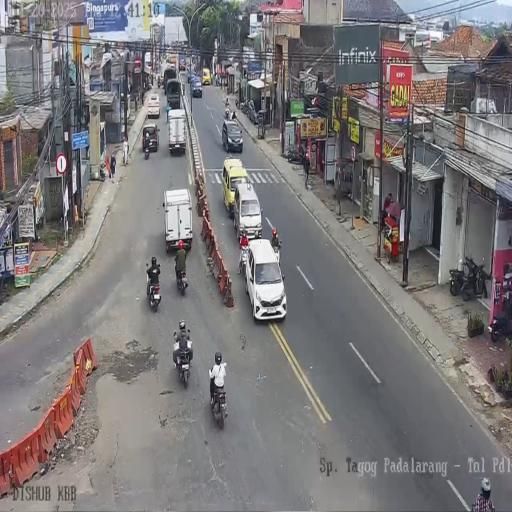car: (244, 238, 286, 322), (221, 156, 249, 218), (222, 119, 243, 154), (166, 77, 182, 109), (146, 94, 160, 118), (192, 76, 202, 98), (202, 68, 211, 86), (187, 70, 194, 84)
motorcycle: (450, 254, 486, 300), (489, 294, 512, 343), (210, 368, 228, 429), (172, 332, 192, 384), (145, 266, 161, 312), (174, 260, 188, 296), (285, 144, 301, 165), (240, 99, 250, 115), (144, 138, 150, 159), (215, 73, 220, 86), (225, 108, 230, 120), (157, 75, 161, 88), (160, 78, 164, 89), (182, 83, 185, 97), (151, 73, 154, 86), (235, 96, 238, 108)
truck: (162, 187, 193, 254), (167, 108, 188, 154), (144, 51, 151, 74), (178, 53, 186, 72), (170, 55, 178, 69)
